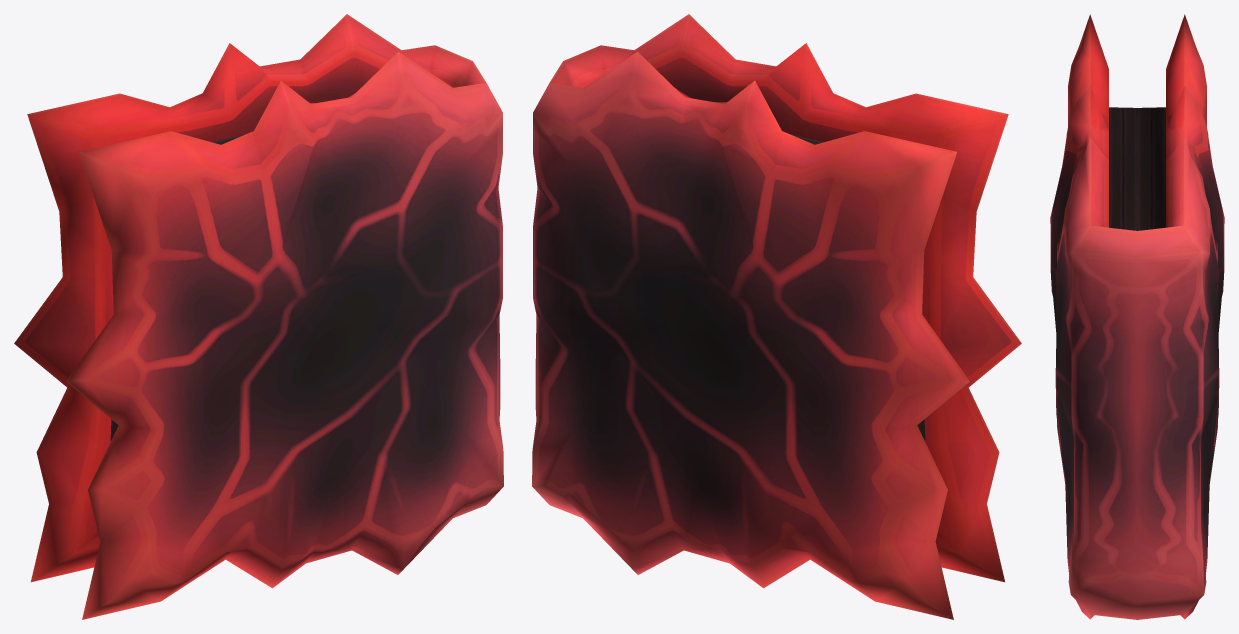
Rendered from item_weabokmgm2501-et02.glb.
3 views of the same model, side by side, from view 1: azimuth 30°, elevation 25°; view 2: azimuth 150°, elevation 25°; view 3: azimuth 270°, elevation 25° (orthographic). The views are drawn at different scales.
Visible parts, largest first — view 1: FlyffMesh; view 2: FlyffMesh; view 3: FlyffMesh.
Part boxes in pixels (bbox=[...]): FlyffMesh: bbox=[14, 14, 503, 619]; FlyffMesh: bbox=[532, 14, 1021, 619]; FlyffMesh: bbox=[1050, 14, 1224, 619].
Bounding box in the file's own units: 0.5095 × 0.57 × 0.1864.
1 material, 1 textured.
